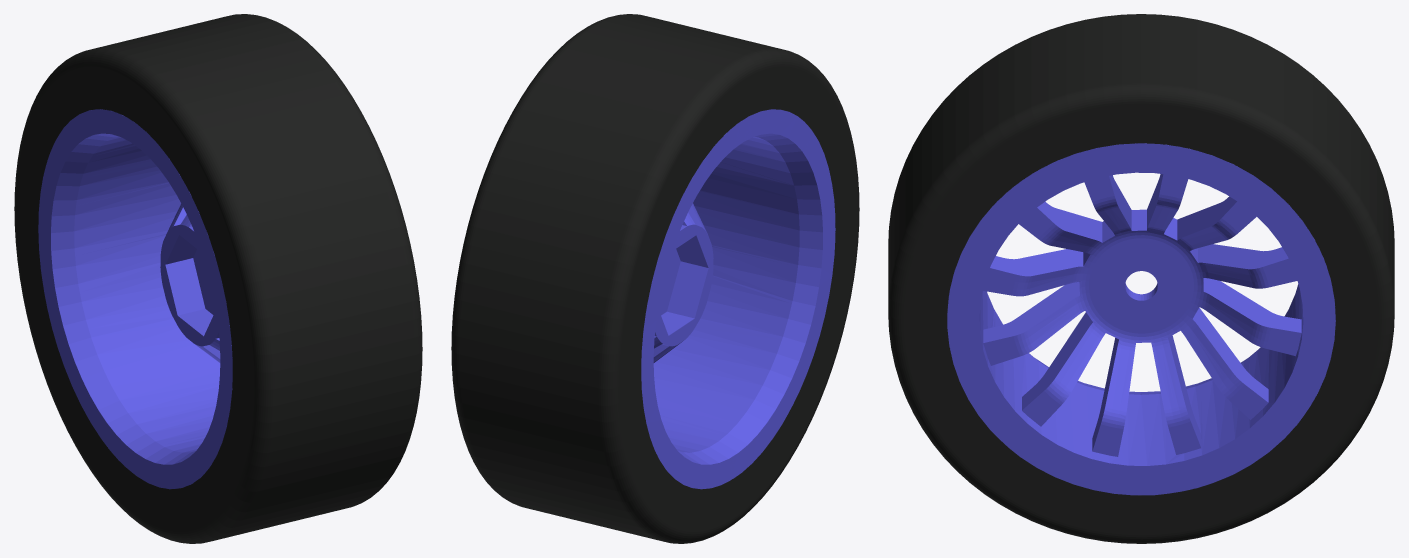
The model's file is WheelLeft.fbx.
3 views of the same model, side by side, from view 1: azimuth 30°, elevation 25°; view 2: azimuth 150°, elevation 25°; view 3: azimuth 270°, elevation 25° (orthographic).
Parts seen in each view (by area): view 1: Sborka var7 - Колесико)-1 Диск-1.001; view 2: Sborka var7 - Колесико)-1 Диск-1.001; view 3: Sborka var7 - Колесико)-1 Диск-1.001.
Part boxes in pixels (left/top/right/bottom): Sborka var7 - Колесико)-1 Диск-1.001: left=14, top=14, right=422, bottom=543; Sborka var7 - Колесико)-1 Диск-1.001: left=451, top=14, right=859, bottom=543; Sborka var7 - Колесико)-1 Диск-1.001: left=888, top=14, right=1394, bottom=543.
Size of the model in its own units: 2535 by 6710 by 6710.
